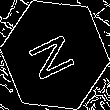N_NE: (26, 27, 84, 83)
